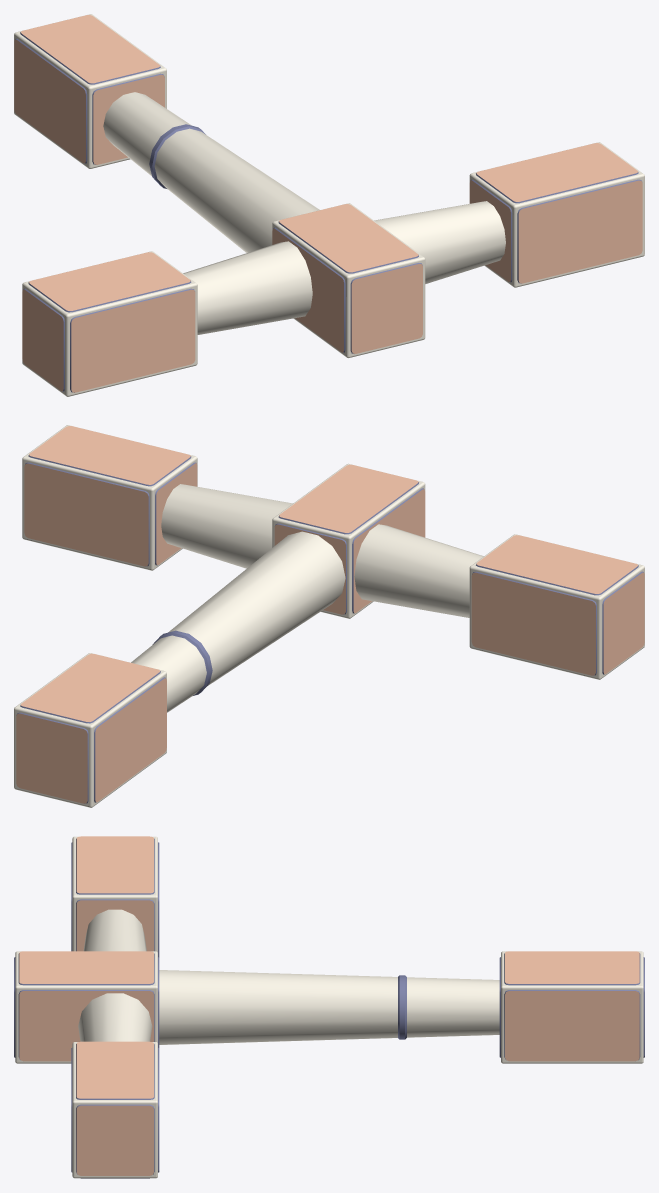
Rendered from R4C_ROD_T.fbx.
3 views of the same model, one above another, from view 1: azimuth 30°, elevation 25°; view 2: azimuth 150°, elevation 25°; view 3: azimuth 270°, elevation 25° (orthographic). The views are drawn at different scales.
Visible parts, largest first — view 1: R4C_ROD_T; view 2: R4C_ROD_T; view 3: R4C_ROD_T.
Boxes of the visible parts, left/top/right/bottom form: R4C_ROD_T: left=14, top=14, right=644, bottom=396; R4C_ROD_T: left=14, top=425, right=644, bottom=807; R4C_ROD_T: left=14, top=836, right=644, bottom=1178.
Size of the model in its own units: 1.62 by 0.226 by 1.62.
